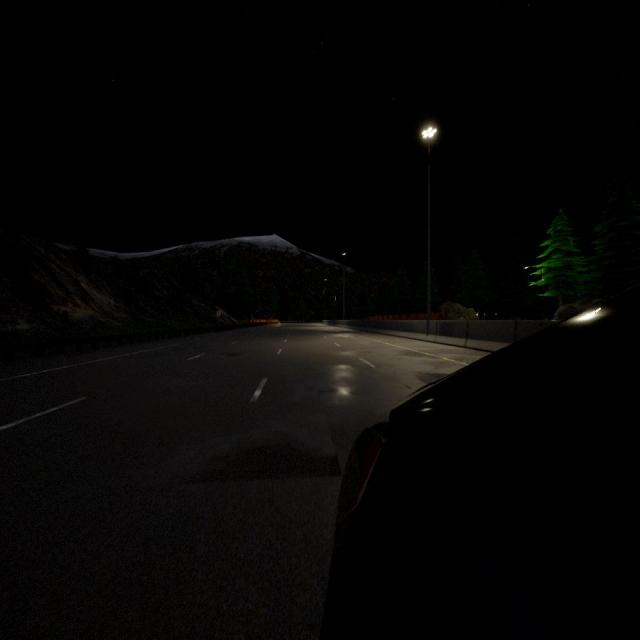Traffic_Signs: (216, 310, 222, 318)
Vehicle: (321, 286, 639, 638)
